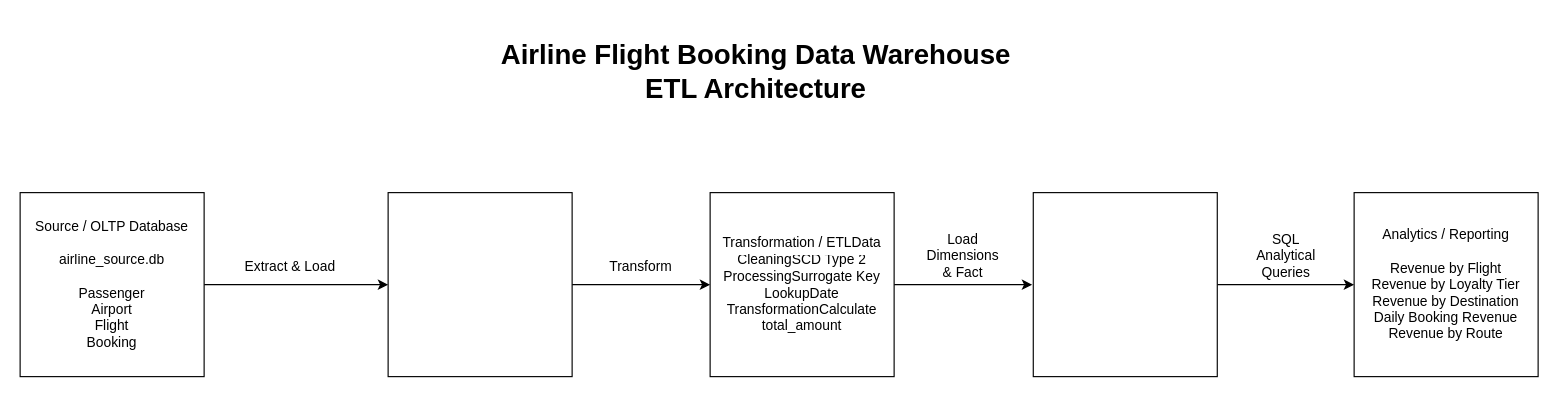
This 1558x397 diagram has some shape labels left out. The shapes that lost their labels are listed below. From the top down, each one's box as (x1, y1, x2, y2) in pixels, then its label:
(387, 191, 572, 377): Staging Layer stg_passenger stg_airport stg_flight stg_booking
(1032, 191, 1217, 377): Data Warehouse Dim_Passenger Dim_Airport Dim_Flight Dim_Date Fact_Flight_Booking
